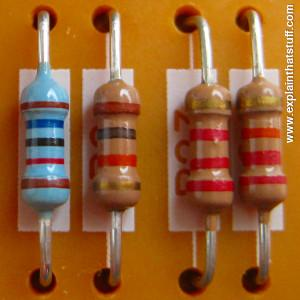resistor: (21, 66, 69, 216), (185, 82, 235, 212), (94, 79, 140, 214), (239, 81, 284, 208)
